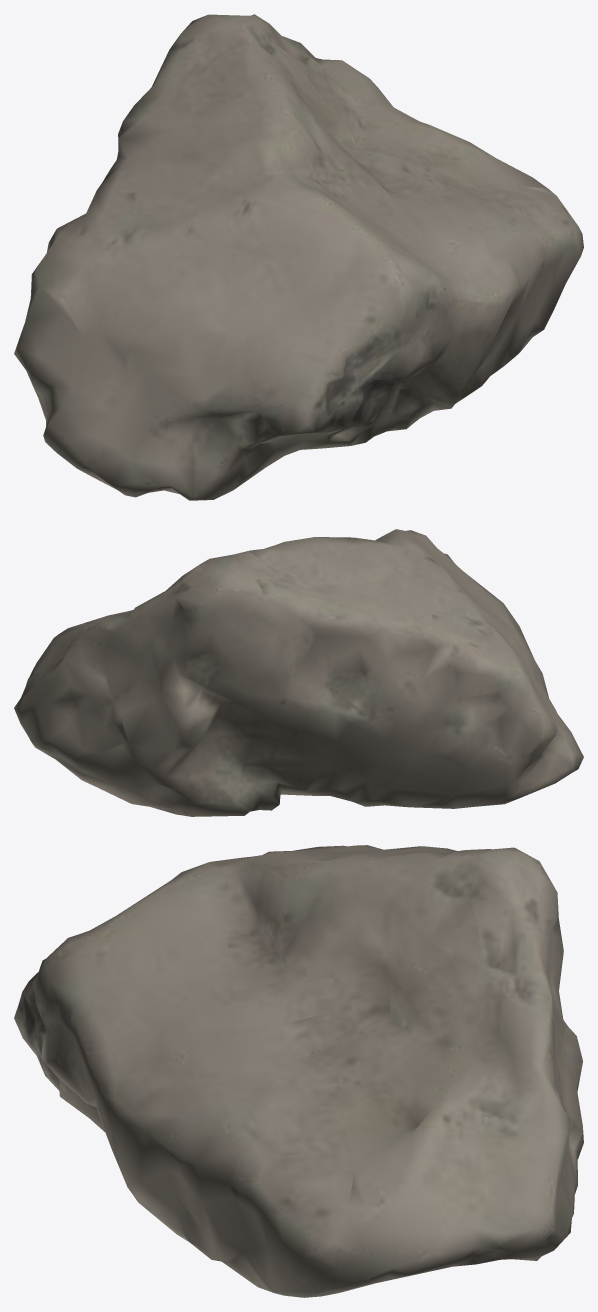
Rendered from ph-moon-rock-03.glb.
3 renders of one model, top to bottom at view 1: azimuth 30°, elevation 25°; view 2: azimuth 150°, elevation 25°; view 3: azimuth 270°, elevation 25°, orthographic. The views are drawn at different scales.
Parts seen in each view (by area): view 1: ph-moon-rock-03_LOD0; view 2: ph-moon-rock-03_LOD0; view 3: ph-moon-rock-03_LOD0.
Part boxes in pixels (x1,y1,x2,y2): ph-moon-rock-03_LOD0: [14, 14, 583, 500]; ph-moon-rock-03_LOD0: [14, 529, 583, 816]; ph-moon-rock-03_LOD0: [14, 845, 583, 1297].
Size of what is drawn, in the model's own units: 1 by 0.5187 by 0.7692.
1 material, 1 textured.
